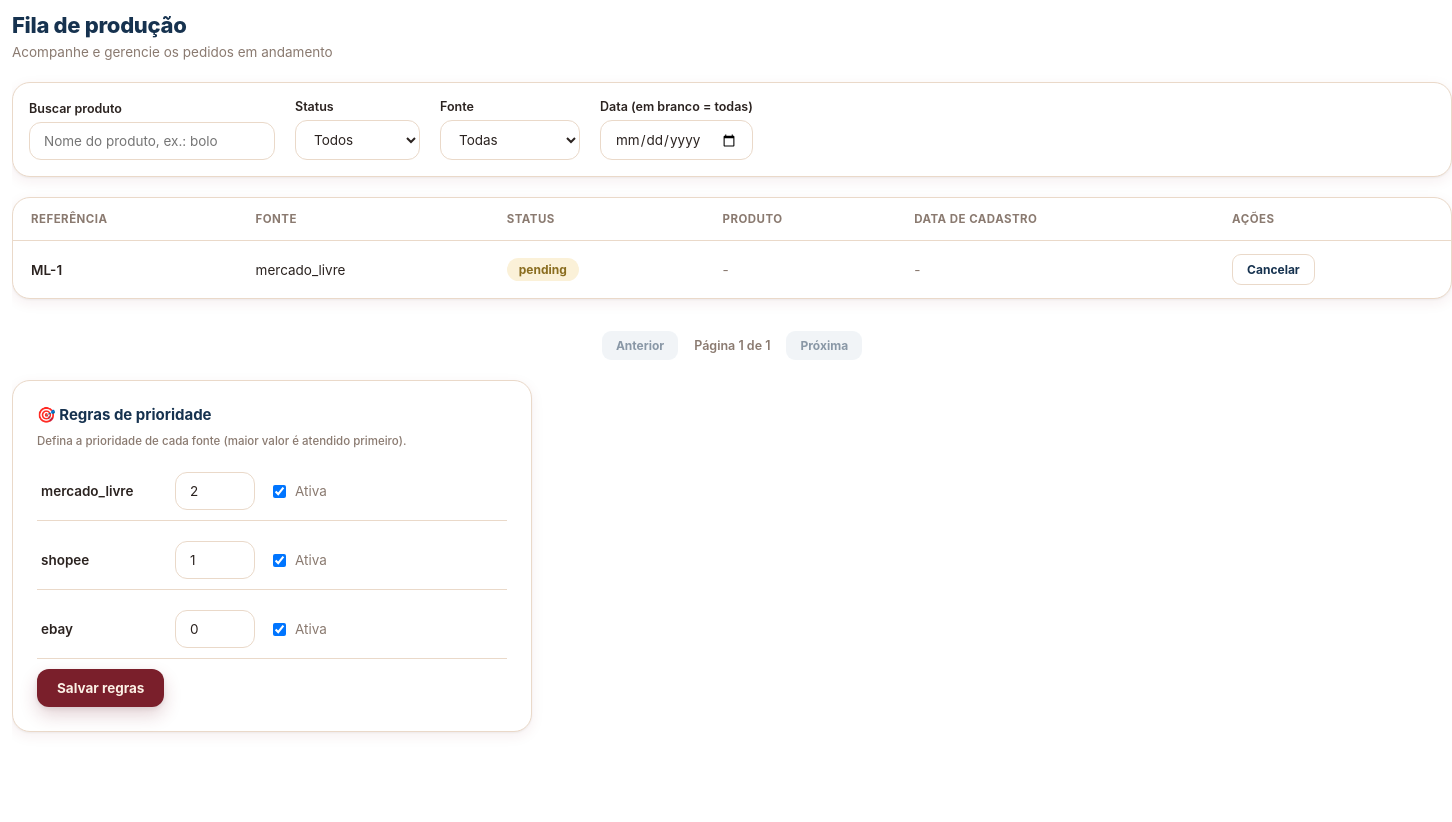
Scenario: QueueManagementScreen › mostra a mensagem do servidor quando cancelar falha com um erro de domínio
Click the button with test id "cancel-item-1" at x=1273, y=270, box [1232,254,1315,285]
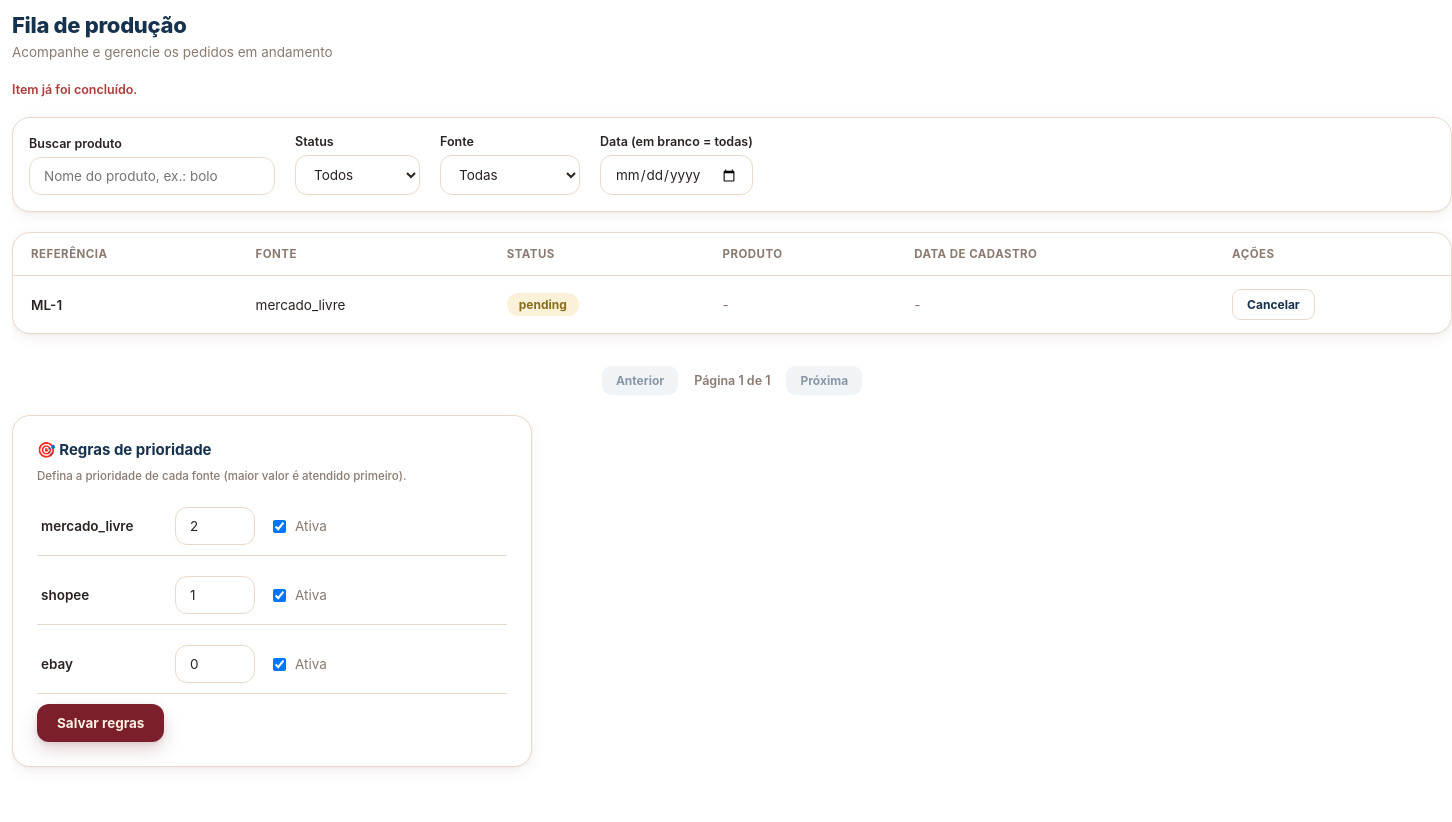
Result: the text "Item já foi concluído." is shown at [12,82,137,97]
